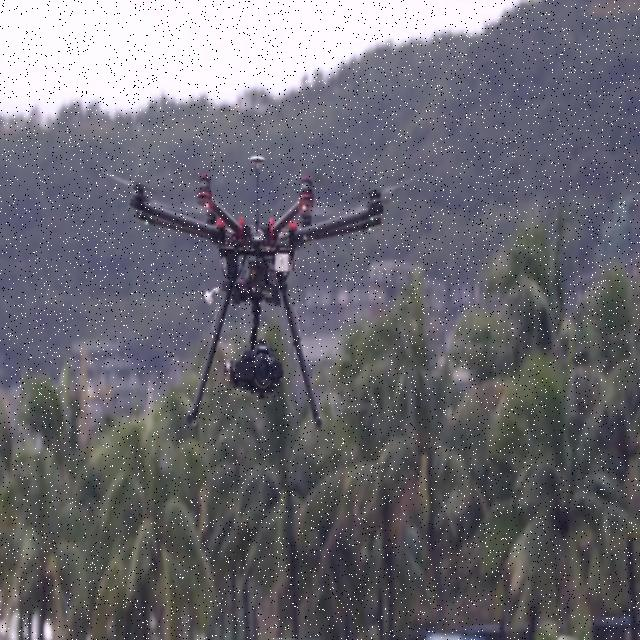UAV: (96, 155, 418, 433)
